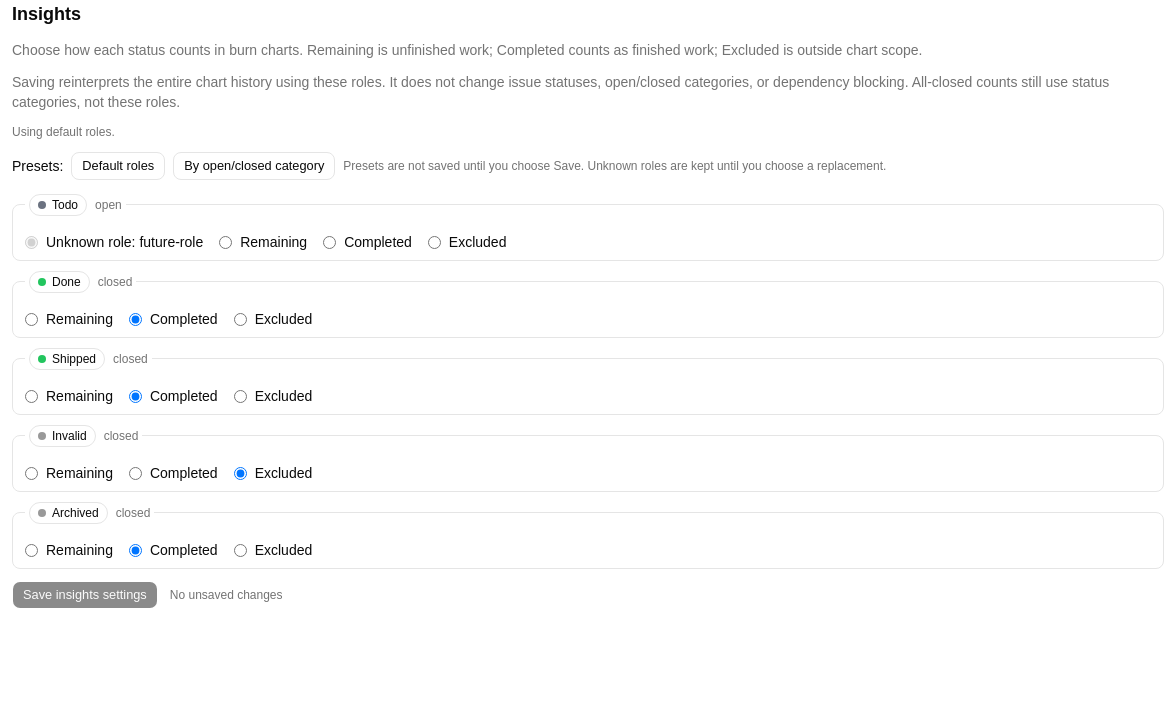
InsightsSettings › replaces an unknown role only after an explicit choice on that row
The width and height of the screenshot is (1164, 720).
What coordinates should you click on to do the following:
click the radio button labelled "Remaining" next to "future-role"
I would click on:
 (226, 242)
Its box is [219,236,232,248].
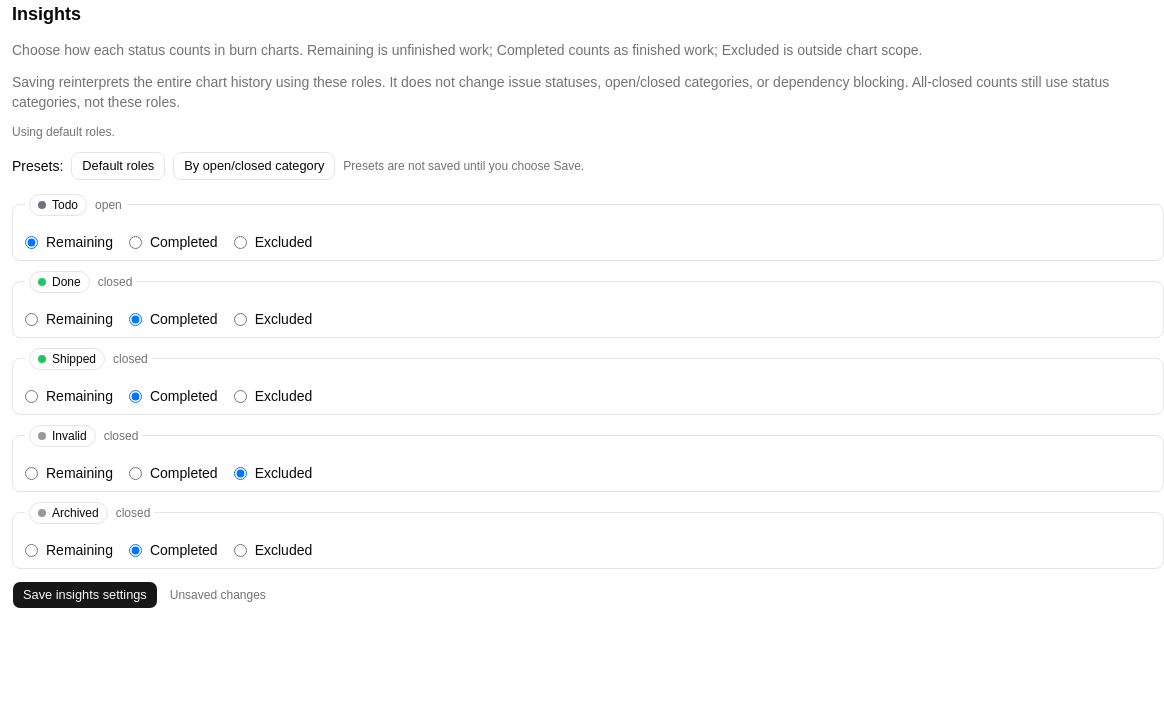
Expected: the label "Unknown role:" is gone
Expected: the button "Save insights settings" is enabled
What coordinates should you click on to do the following:
click the button "Save insights settings"
I would click on:
 (85, 595)
Its box is [12,581,158,609].
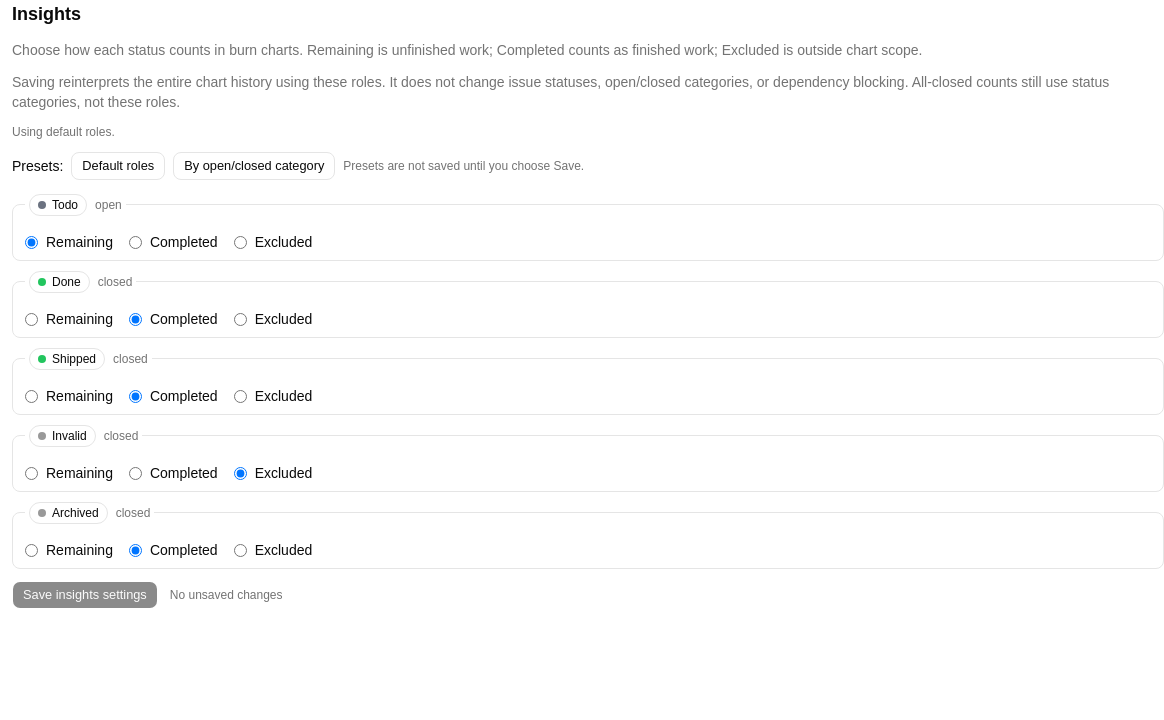
Expected: the button "Save insights settings" is disabled, [12,581,158,609]
